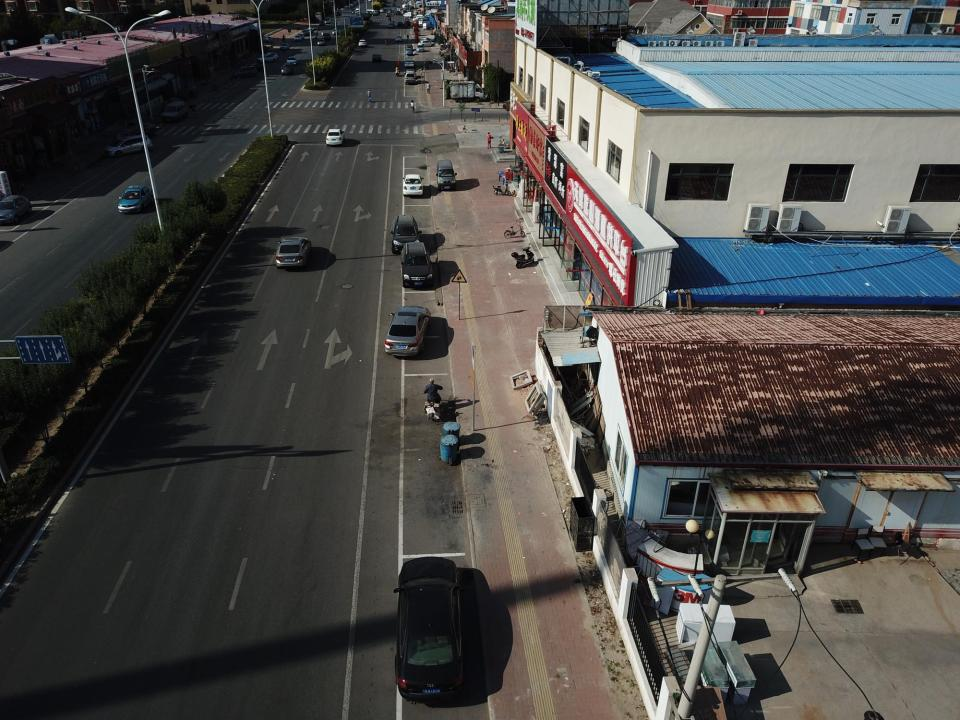car: (394, 556, 466, 704), (385, 306, 431, 357), (400, 241, 434, 289), (389, 214, 422, 254), (275, 236, 311, 269), (103, 135, 153, 158), (118, 185, 155, 214), (0, 194, 33, 224), (402, 174, 424, 195), (326, 128, 344, 146), (256, 55, 278, 62), (405, 72, 416, 85), (261, 52, 278, 60), (418, 40, 435, 47), (286, 56, 299, 65), (372, 54, 382, 63), (358, 39, 367, 47), (404, 60, 413, 68), (404, 70, 415, 76), (416, 44, 424, 52), (317, 39, 325, 46), (280, 44, 289, 50), (294, 35, 301, 42), (302, 29, 309, 36), (406, 44, 413, 51), (324, 33, 330, 40), (332, 28, 338, 35), (405, 46, 412, 52), (406, 48, 412, 54), (395, 36, 402, 41), (319, 21, 325, 26), (388, 23, 394, 28), (308, 28, 313, 33), (313, 26, 319, 30), (324, 20, 330, 24), (326, 17, 330, 22), (380, 9, 384, 12), (386, 13, 390, 16)
truck: (444, 80, 484, 102), (404, 12, 412, 17)
van: (436, 159, 457, 190), (162, 101, 188, 123), (232, 66, 258, 78), (281, 62, 293, 77), (418, 18, 431, 24), (423, 23, 433, 30), (367, 9, 377, 14), (416, 15, 425, 20), (355, 9, 359, 14)
